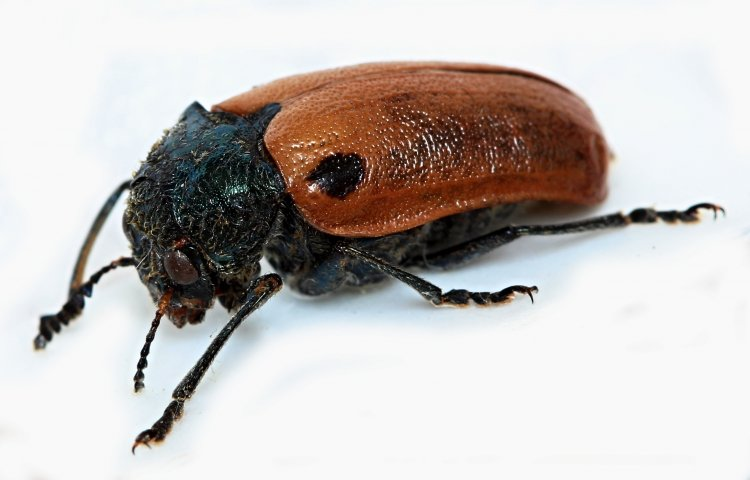Labidostomis_asiatica: (23, 55, 736, 465)
